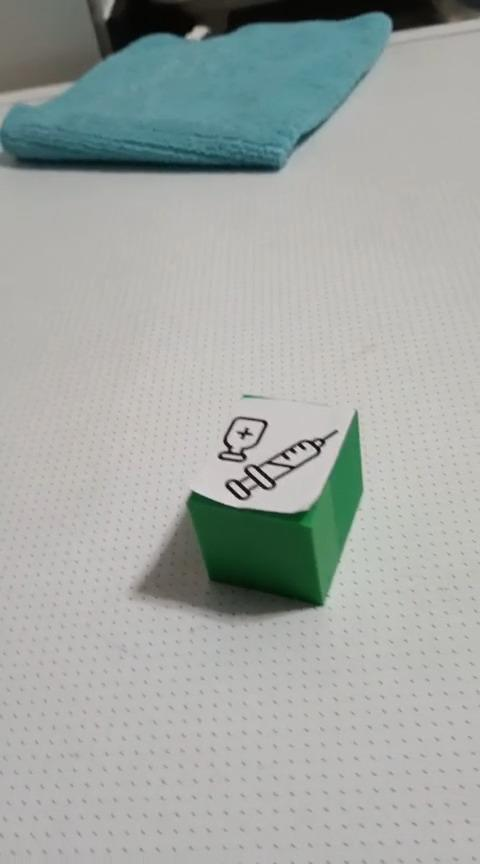antiseptic cream: (184, 392, 365, 606)
